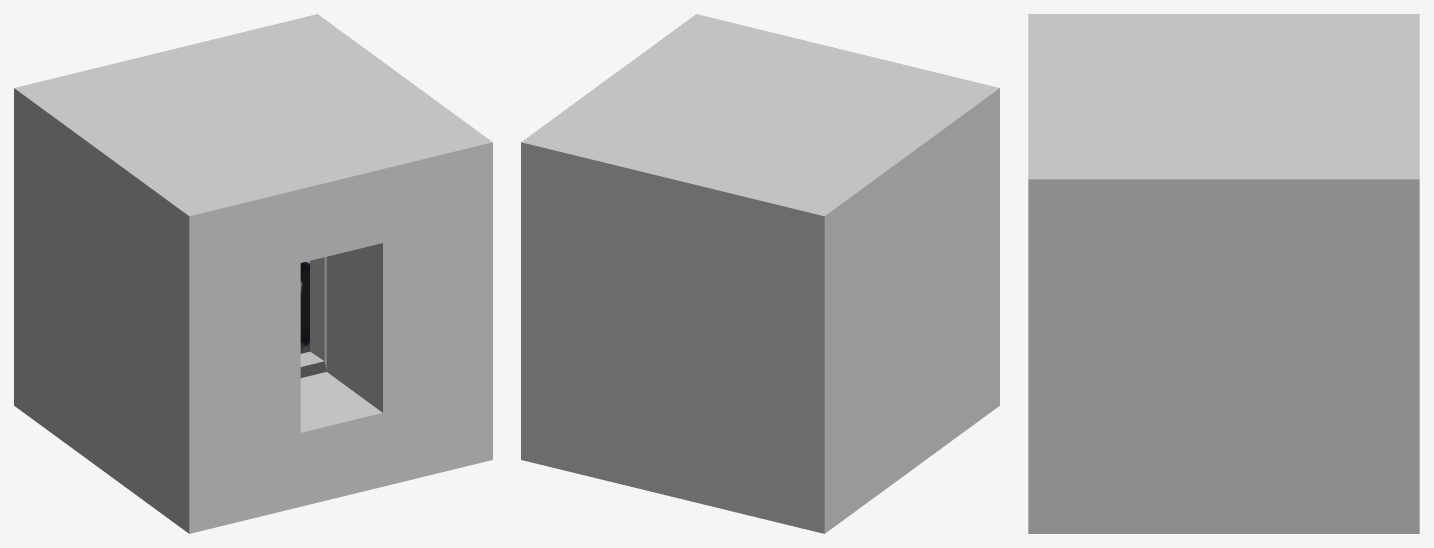
File: 360_sphere_middle_2.fbx
3 views of the same model, side by side, from view 1: azimuth 30°, elevation 25°; view 2: azimuth 150°, elevation 25°; view 3: azimuth 270°, elevation 25° (orthographic). The views are drawn at different scales.
Parts seen in each view (by area): view 1: Cube, Cube.001, Plane; view 2: Cube; view 3: Cube.
Boxes of the visible parts, x1,y1,x2,y2 form: Cube: (14, 14, 492, 533); Cube.001: (300, 257, 326, 377); Plane: (300, 261, 309, 353); Cube: (521, 14, 999, 533); Cube: (1028, 14, 1419, 533).
Size of the model in its own units: 620 by 620 by 620.
1 material, 1 textured.
